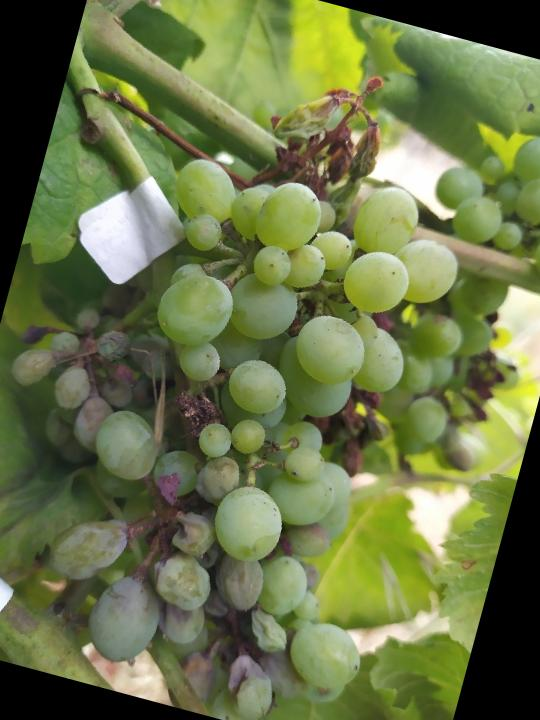grape: (0, 101, 490, 720)
